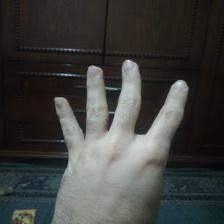four: (42, 51, 192, 220)
